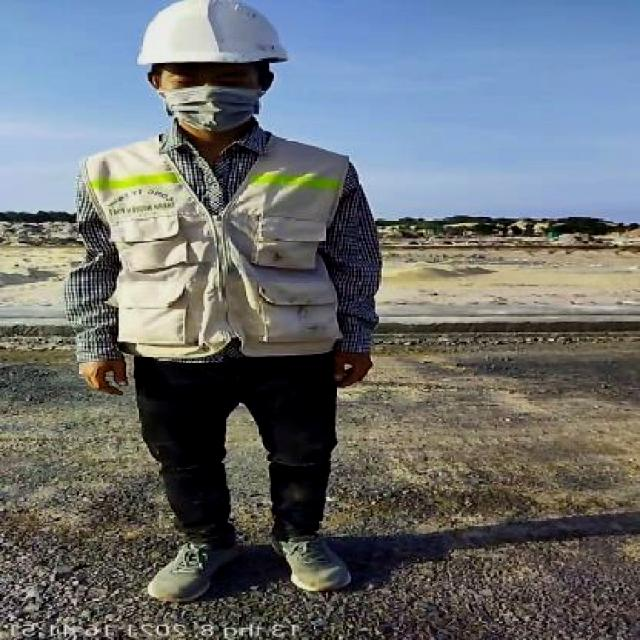face_mask: (160, 61, 266, 130)
head_helmet: (115, 1, 299, 68)
person: (57, 0, 385, 609)
shoes: (132, 534, 254, 604), (264, 526, 358, 594)
vest: (77, 126, 355, 366)
